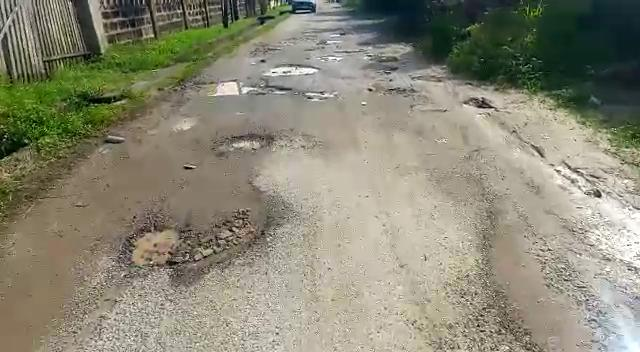pothole: (110, 206, 286, 279), (195, 80, 299, 97), (215, 131, 276, 153), (262, 62, 321, 76), (301, 91, 334, 101)
